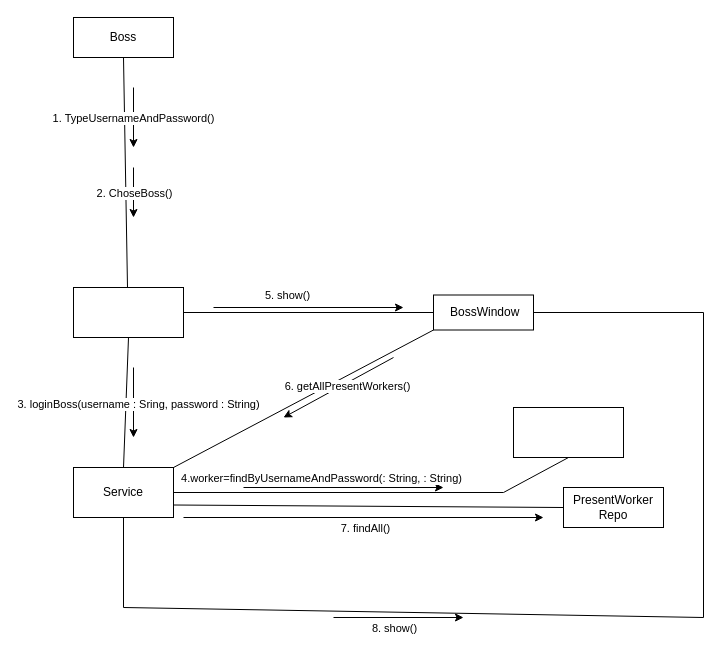
This 722x652 diagram has some shape labels left out. Here are the shapes that lost their labels. From the top down, the centre of each, then its label:
At point (128, 312): "<<boundary>> LoginWindow".
At point (568, 432): "UserDBRepository".
